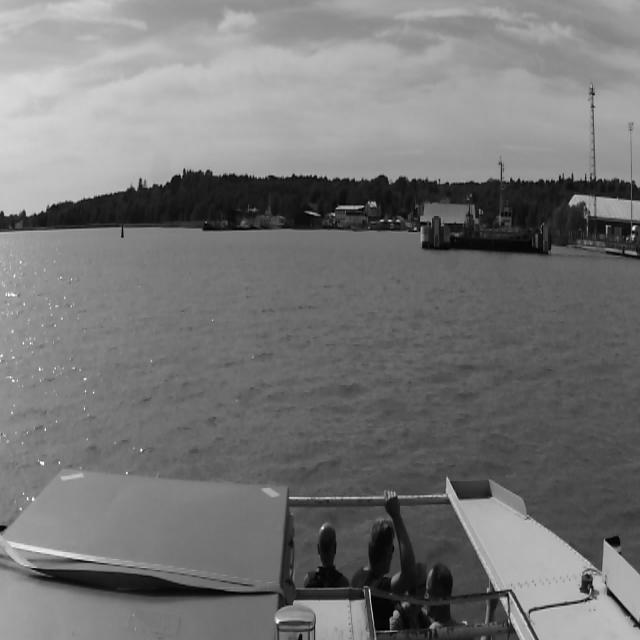buoy: (119, 220, 125, 239)
